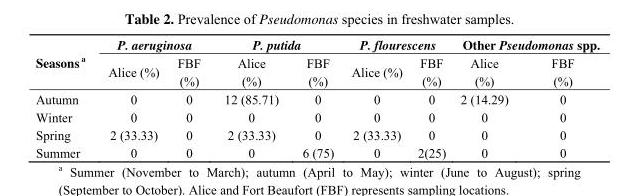table: (34, 35, 599, 159)
table column: (211, 35, 289, 159), (452, 35, 529, 159), (96, 35, 167, 159), (529, 35, 599, 159), (341, 35, 409, 159), (34, 35, 96, 159), (289, 35, 341, 159), (167, 35, 211, 159), (409, 35, 452, 159)
table column header: (34, 35, 599, 89)
table row: (34, 54, 599, 89), (34, 35, 599, 54), (34, 89, 599, 107), (34, 107, 599, 125), (34, 125, 599, 143), (34, 143, 599, 159)
table spanning cell: (34, 35, 96, 89), (452, 35, 599, 54), (211, 35, 341, 54), (96, 35, 211, 54), (341, 35, 452, 54)
